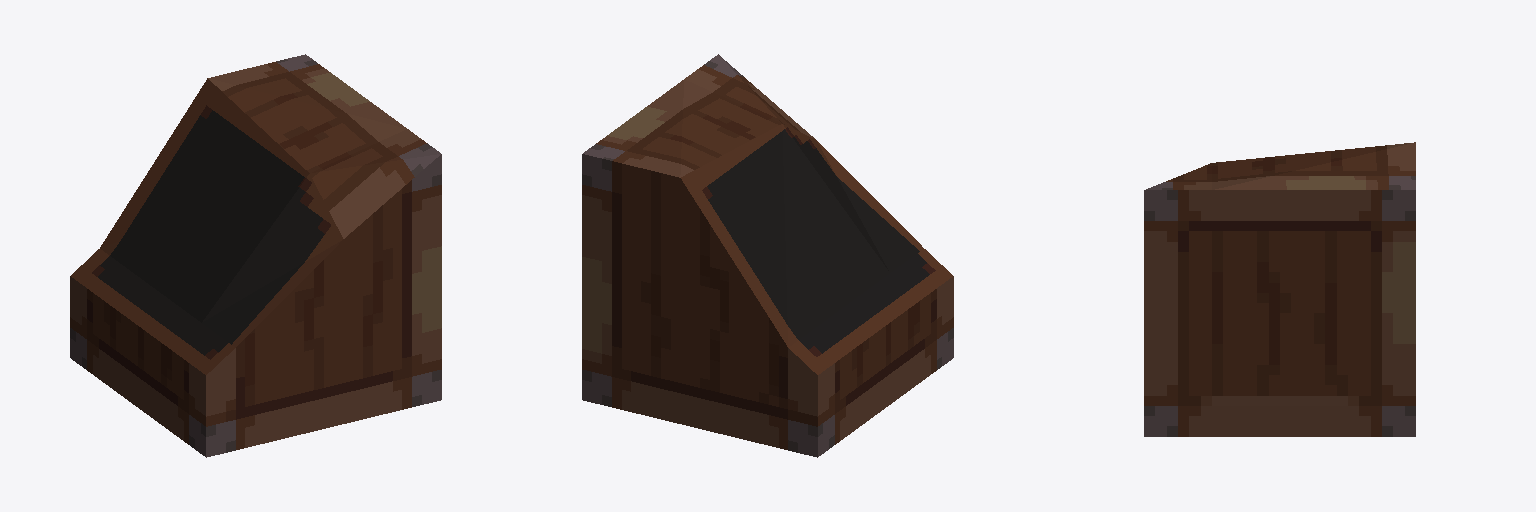
3 renders of one model, left to right at view 1: azimuth 30°, elevation 25°; view 2: azimuth 150°, elevation 25°; view 3: azimuth 270°, elevation 25°, orthographic.
Parts seen in each view (by area): view 1: cuboid; view 2: cuboid; view 3: cuboid.
Boxes of the visible parts, <box> form: cuboid: <box>70,54,441,457</box>; cuboid: <box>582,54,953,457</box>; cuboid: <box>1144,142,1415,436</box>.
Size of the model in its own units: 0.75 by 0.75 by 0.75.
Materials: 1 (1 with a texture image).